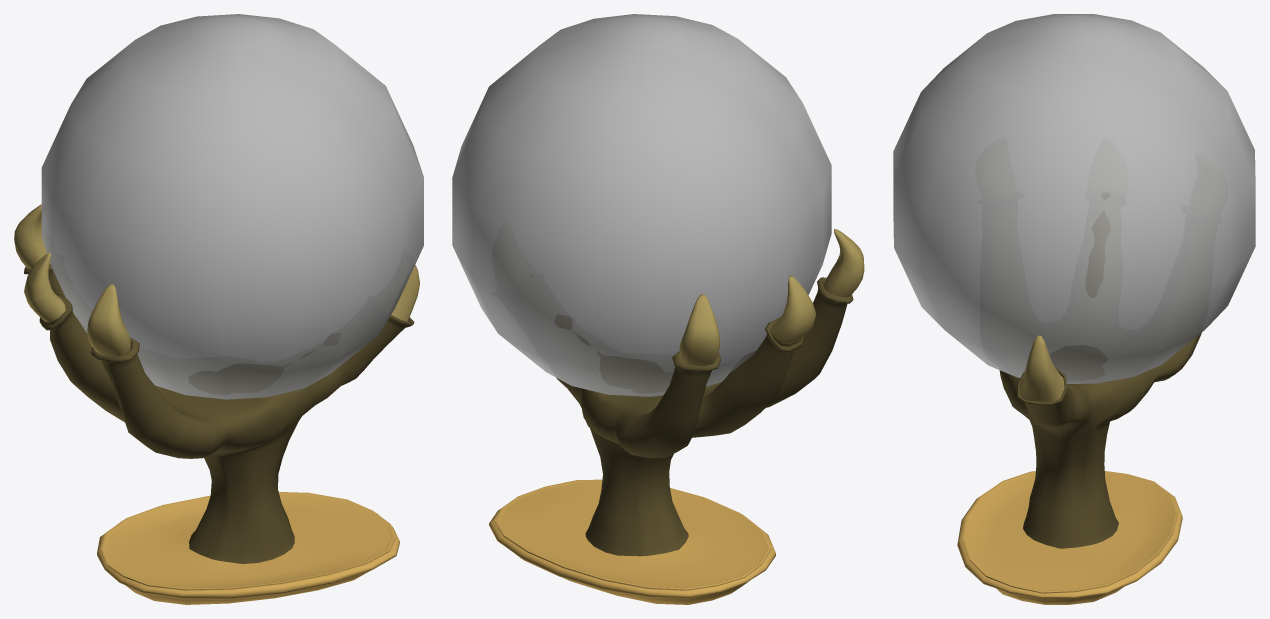
The model's file is blue_simbol.fbx.
The picture shows the model from 3 angles, left to right: view 1: azimuth 30°, elevation 25°; view 2: azimuth 150°, elevation 25°; view 3: azimuth 270°, elevation 25°; orthographic projection. The views are drawn at different scales.
Parts seen in each view (by area): view 1: bds_01, bds_03, bds_04, bds_02; view 2: bds_01, bds_03, bds_04, bds_02; view 3: bds_01, bds_04, bds_03, bds_02.
Part boxes in pixels (x1,y1,x2,y2): bds_01: (41, 14, 423, 399); bds_03: (24, 264, 414, 563); bds_04: (97, 492, 399, 604); bds_02: (14, 204, 419, 356); bds_01: (452, 14, 831, 396); bds_03: (532, 275, 853, 556); bds_04: (489, 479, 775, 604); bds_02: (679, 229, 864, 365); bds_01: (893, 14, 1255, 383); bds_04: (957, 471, 1182, 604); bds_03: (999, 192, 1201, 548); bds_02: (1020, 335, 1064, 401).
Bounding box in the file's own units: 0.314 × 0.4568 × 0.2882.
